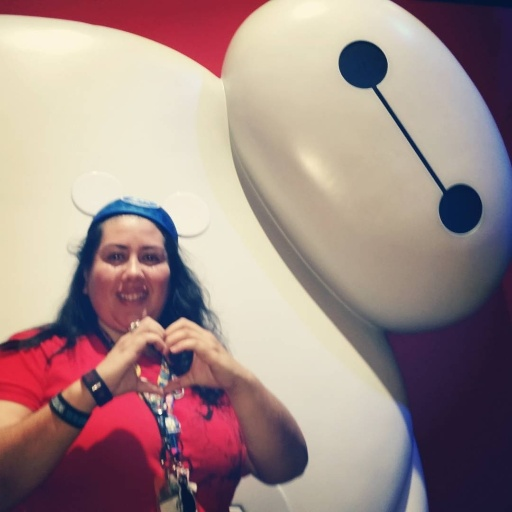hand: (92, 301, 163, 403), (160, 315, 241, 398)
